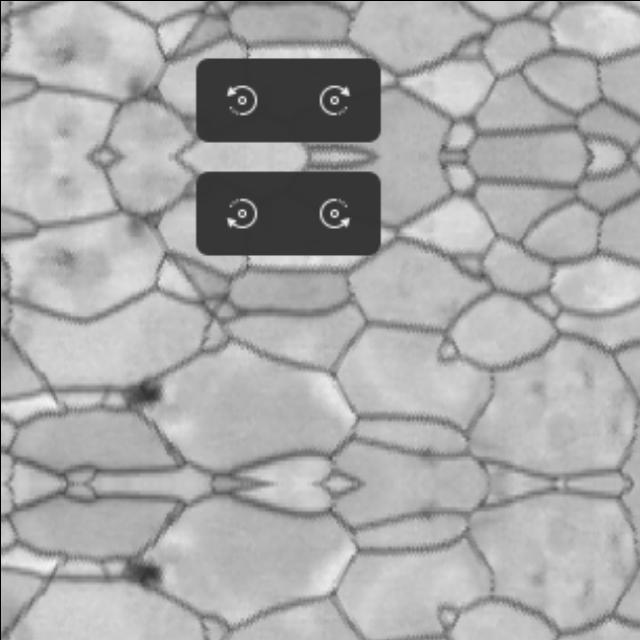good_void: (18, 218, 113, 296), (18, 18, 113, 95), (112, 363, 170, 417), (112, 551, 170, 605), (112, 200, 172, 249), (112, 64, 172, 113), (404, 436, 450, 483), (404, 485, 450, 532)
